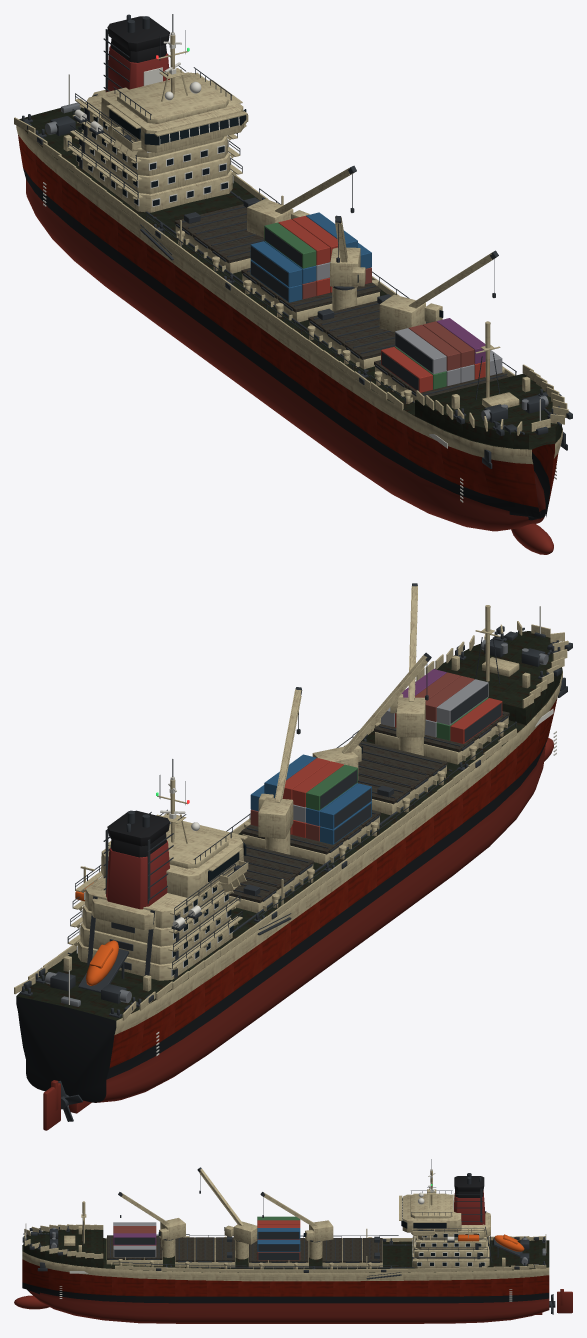
The model's file is merchant_ship.glb.
3 views of the same model, one above another, from view 1: azimuth 30°, elevation 25°; view 2: azimuth 150°, elevation 25°; view 3: azimuth 270°, elevation 25° (orthographic). The views are drawn at different scales.
Visible parts, largest first — view 1: Hull, MV_MV_CreamPaint, MV_MV_DarkMetal, MV_MV_HatchSteel, MV_MV_DeckPaint, MV_MV_Glass, MV_MV_WhitePaint, MV_MV_FunnelBlack, MV_MV_Box7, MV_MV_Box1, MV_MV_FunnelRed, MV_MV_Box2 (+7 smaller); view 2: Hull, MV_MV_CreamPaint, MV_MV_DarkMetal, MV_MV_HatchSteel, MV_MV_DeckPaint, MV_MV_FunnelRed, MV_MV_FunnelBlack, MV_MV_Box1, MV_MV_Box7, MV_MV_Box2, MV_MV_WhitePaint, MV_MV_Box6 (+6 smaller); view 3: Hull, MV_MV_CreamPaint, MV_MV_DarkMetal, MV_MV_HatchSteel, MV_MV_DeckPaint, MV_MV_WhitePaint, MV_MV_FunnelRed, MV_MV_Antifoul, MV_MV_Glass, MV_MV_FunnelBlack, MV_MV_Rescue, MV_MV_Box7 (+5 smaller).
Part boxes in pixels (<box>): Hull: <box>16,102,562,531</box>; MV_MV_CreamPaint: <box>14,35,568,435</box>; MV_MV_DarkMetal: <box>21,14,572,468</box>; MV_MV_HatchSteel: <box>174,200,508,397</box>; MV_MV_DeckPaint: <box>415,373,561,449</box>; MV_MV_Glass: <box>77,108,443,317</box>; MV_MV_WhitePaint: <box>43,32,556,502</box>; MV_MV_FunnelBlack: <box>107,16,169,62</box>; MV_MV_Box7: <box>302,267,474,370</box>; MV_MV_Box1: <box>278,216,337,295</box>; MV_MV_FunnelRed: <box>106,46,169,92</box>; MV_MV_Box2: <box>250,241,371,287</box>; Hull: <box>16,668,562,1102</box>; MV_MV_CreamPaint: <box>14,586,568,1020</box>; MV_MV_DarkMetal: <box>19,583,572,1121</box>; MV_MV_HatchSteel: <box>229,711,509,902</box>; MV_MV_DeckPaint: <box>415,631,561,724</box>; MV_MV_FunnelRed: <box>106,840,169,909</box>; MV_MV_FunnelBlack: <box>107,810,169,857</box>; MV_MV_Box1: <box>282,758,343,837</box>; MV_MV_Box7: <box>250,672,474,841</box>; MV_MV_Box2: <box>250,783,371,829</box>; MV_MV_WhitePaint: <box>68,606,556,1056</box>; MV_MV_Box6: <box>306,697,488,810</box>; Hull: <box>22,1238,549,1323</box>; MV_MV_CreamPaint: <box>24,1168,546,1272</box>; MV_MV_DarkMetal: <box>22,1159,555,1314</box>; MV_MV_HatchSteel: <box>107,1235,382,1262</box>; MV_MV_DeckPaint: <box>23,1229,103,1267</box>; MV_MV_WhitePaint: <box>25,1169,546,1301</box>; MV_MV_FunnelRed: <box>454,1190,485,1224</box>; MV_MV_Antifoul: <box>14,1289,572,1314</box>; MV_MV_Glass: <box>158,1197,484,1265</box>; MV_MV_FunnelBlack: <box>454,1176,484,1197</box>; MV_MV_Rescue: <box>458,1234,524,1251</box>; MV_MV_Box7: <box>113,1226,300,1260</box>.
Size of the model in its own units: 21.98 by 48.97 by 159.
Materials: 24 (4 with a texture image).
